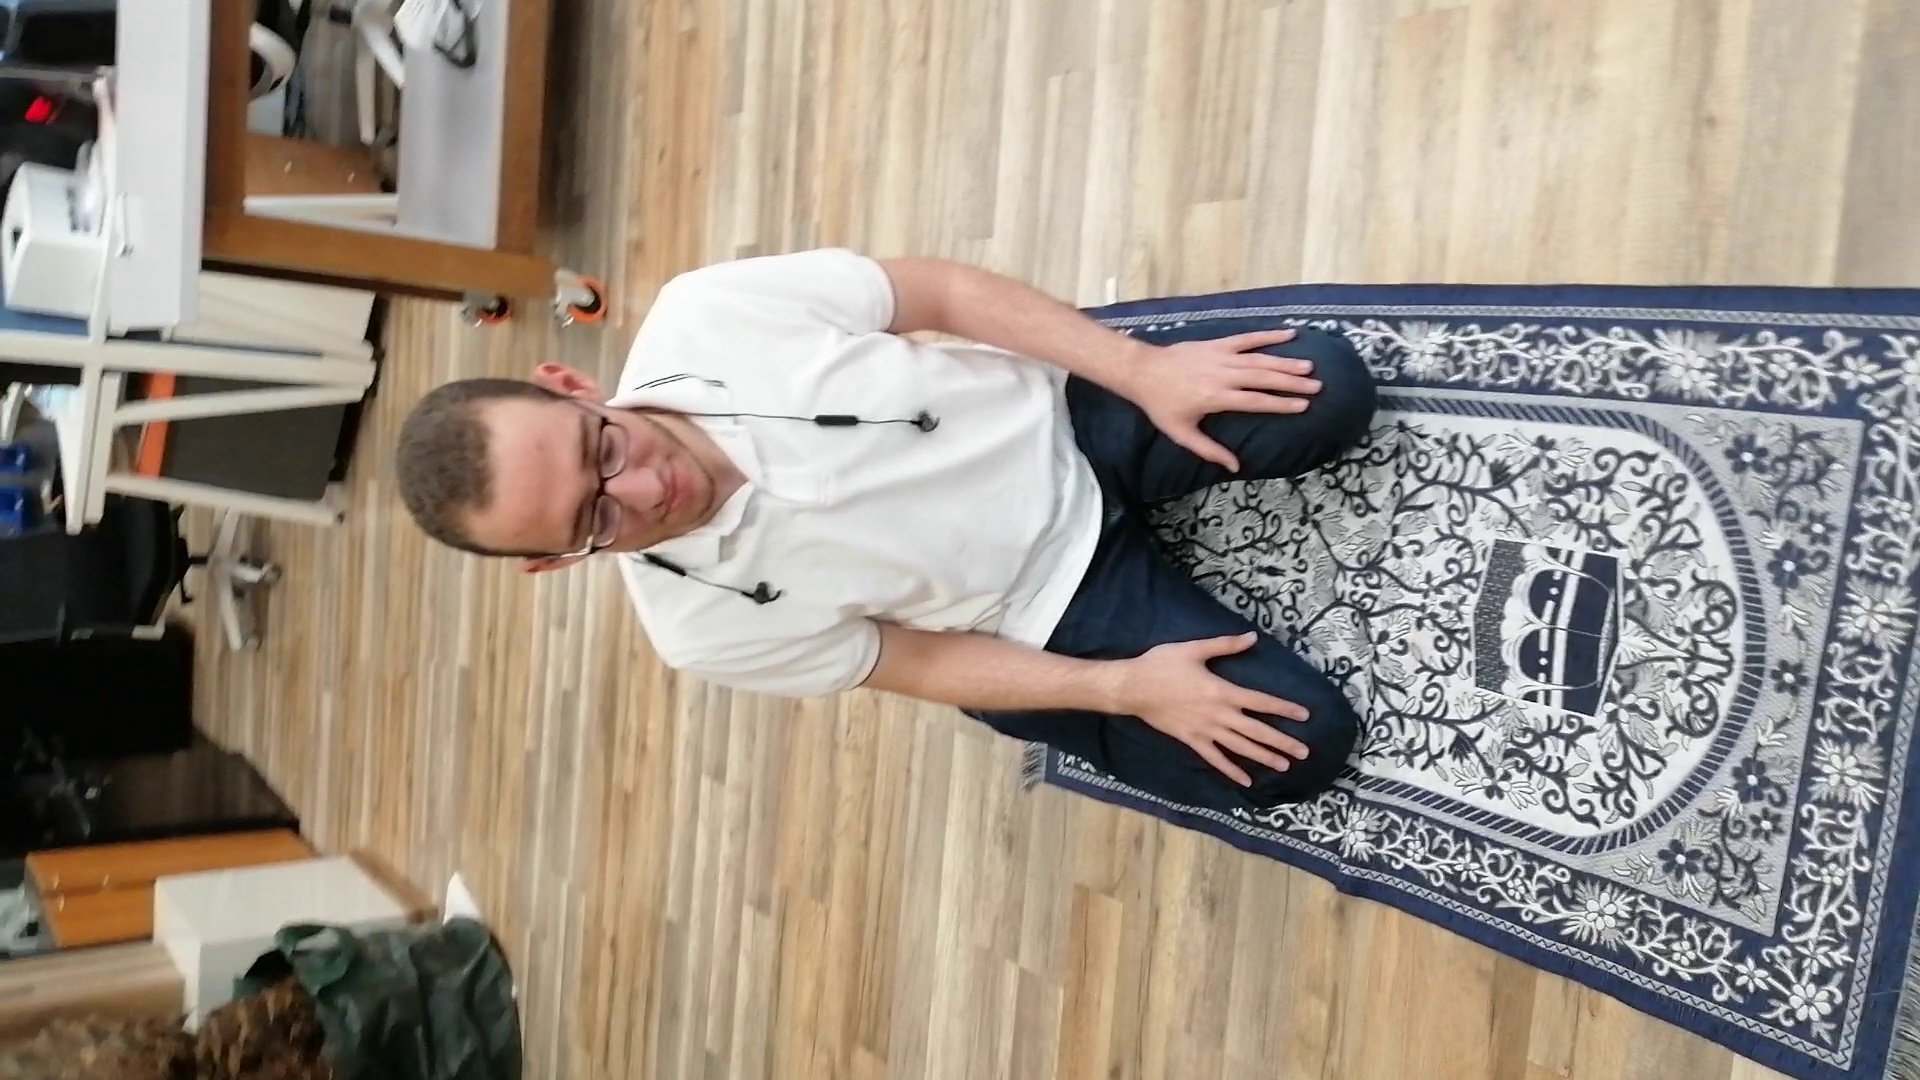sitting: (384, 227, 1389, 824)
